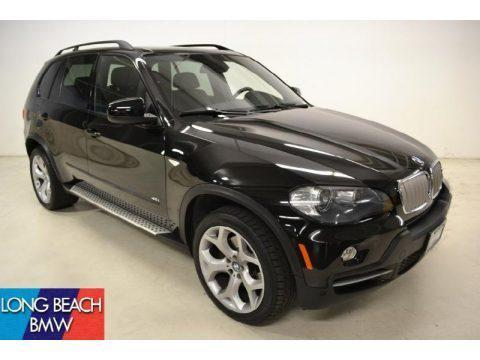Car: (5, 22, 480, 332)
